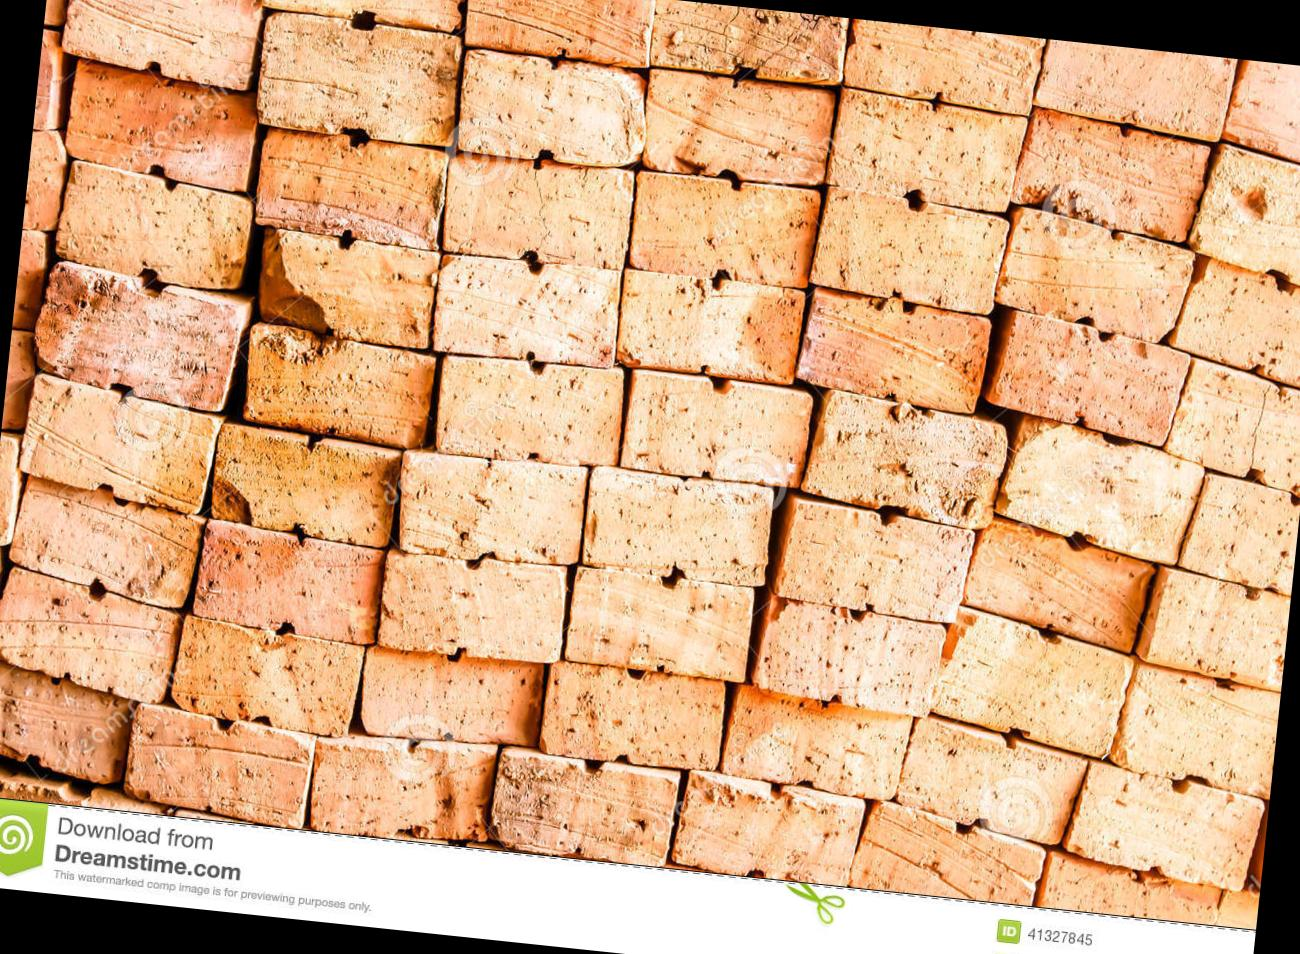brick: (991, 412, 1209, 568), (29, 259, 246, 413), (930, 603, 1139, 756), (800, 388, 1012, 531), (15, 372, 225, 516), (991, 205, 1198, 346), (253, 10, 465, 146), (1008, 104, 1215, 243), (986, 310, 1194, 447), (956, 516, 1160, 654), (53, 158, 258, 293), (5, 473, 207, 609), (1062, 759, 1267, 891), (808, 185, 1010, 316), (64, 59, 259, 191), (796, 286, 995, 415), (827, 86, 1028, 213), (1106, 654, 1283, 800), (0, 566, 183, 706), (121, 701, 318, 830), (775, 499, 975, 626), (894, 716, 1089, 846), (240, 323, 439, 450), (751, 593, 950, 720), (169, 614, 365, 740), (192, 518, 386, 645), (578, 464, 775, 590), (455, 48, 654, 172), (207, 423, 400, 548), (395, 448, 589, 571), (254, 129, 451, 249), (627, 170, 822, 291), (434, 351, 627, 472), (307, 728, 500, 849), (440, 150, 635, 270), (620, 369, 815, 489), (720, 684, 915, 803), (431, 250, 624, 369), (640, 70, 836, 187), (489, 747, 679, 867), (613, 268, 805, 386), (673, 770, 866, 887), (377, 548, 568, 665), (256, 226, 439, 348), (564, 567, 755, 683), (849, 800, 1050, 910), (1031, 38, 1237, 144), (539, 659, 727, 771), (358, 643, 547, 752), (839, 19, 1047, 117), (1159, 356, 1300, 495), (59, 0, 267, 89), (1143, 567, 1293, 691), (1165, 253, 1300, 390), (0, 657, 138, 786), (1185, 141, 1300, 291), (650, 0, 849, 86), (1173, 472, 1300, 596), (462, 0, 657, 68), (261, 0, 470, 32)
